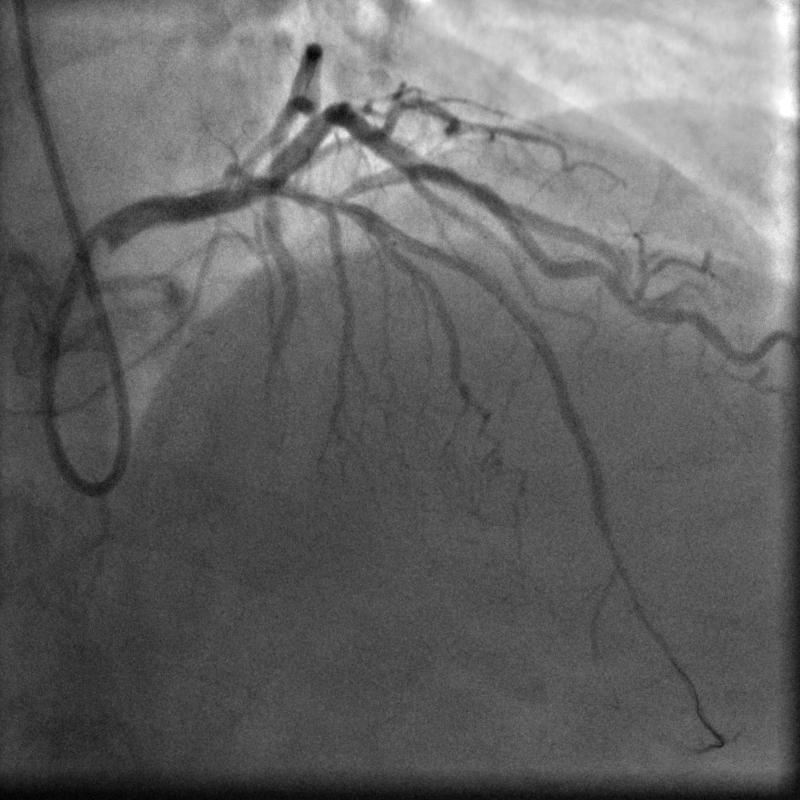Stenosis: (436, 158, 494, 208)
